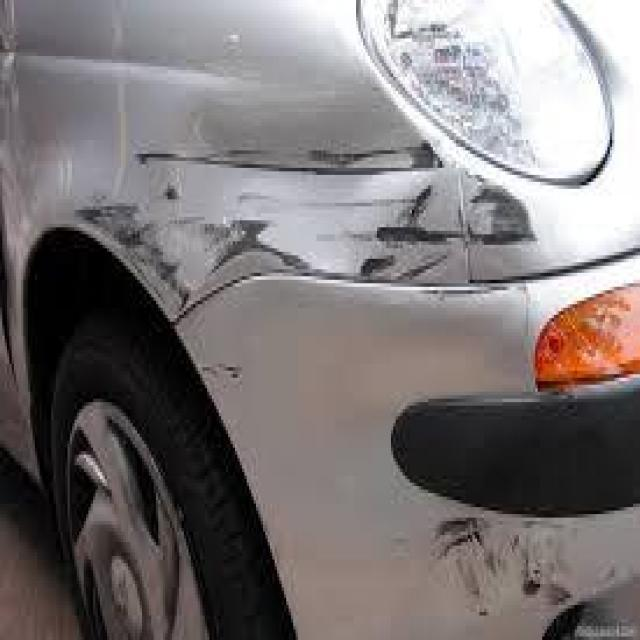scratch: (74, 142, 550, 302), (428, 493, 626, 640)
